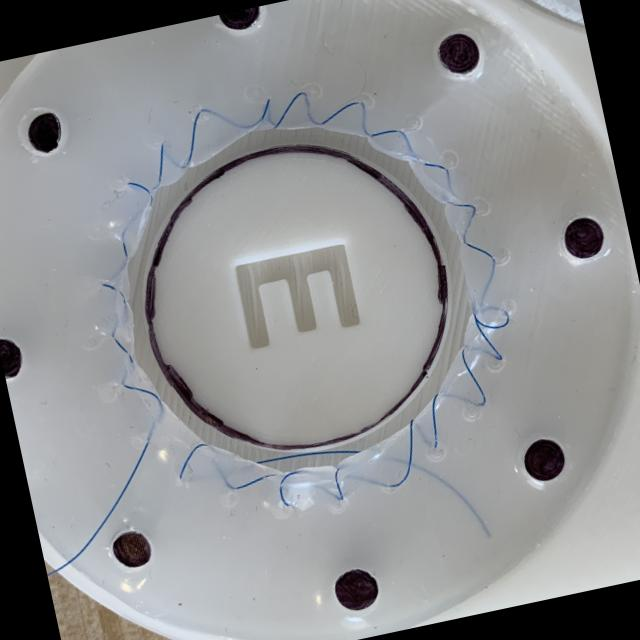suture: (47, 438, 151, 578), (388, 419, 413, 488), (461, 348, 486, 405), (179, 443, 210, 480), (475, 319, 502, 361), (273, 92, 304, 128), (185, 111, 201, 166), (122, 383, 161, 405), (279, 470, 302, 507), (322, 102, 358, 124), (232, 473, 276, 489), (472, 312, 509, 328), (113, 335, 133, 364), (465, 242, 494, 262), (103, 282, 125, 304), (432, 393, 438, 447), (335, 468, 344, 500), (127, 181, 150, 193), (158, 143, 163, 182), (454, 204, 475, 213), (261, 98, 269, 119), (372, 130, 398, 136), (121, 240, 128, 259), (424, 163, 445, 169)
